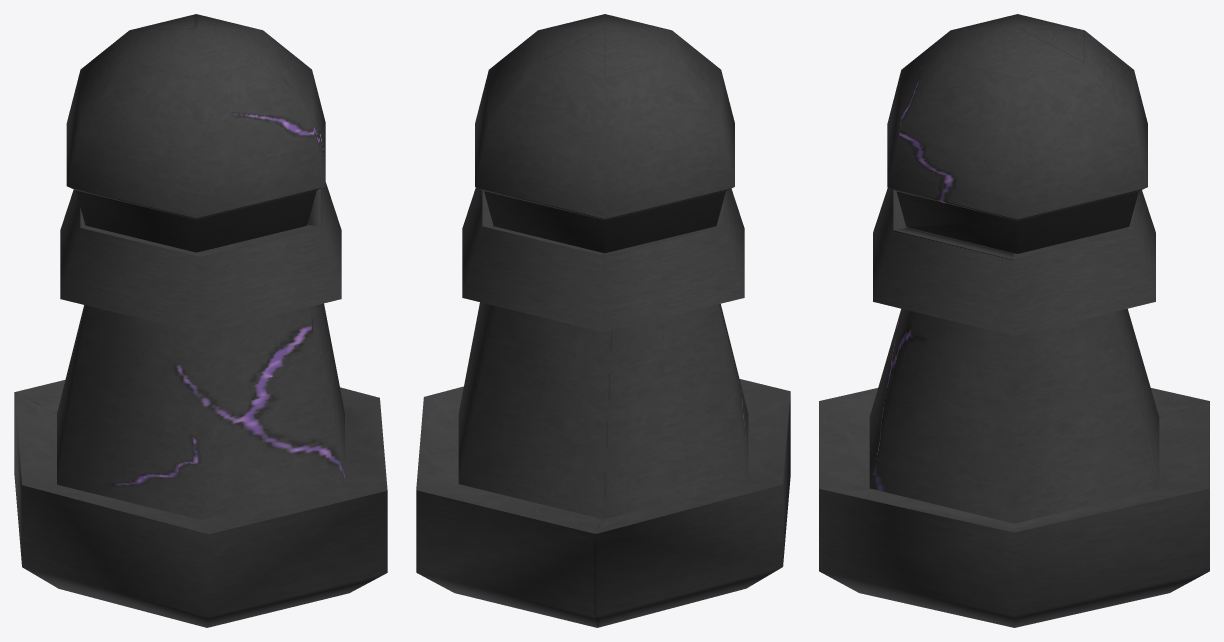
File: ModelBlack.fbx
3 renders of one model, left to right at view 1: azimuth 30°, elevation 25°; view 2: azimuth 150°, elevation 25°; view 3: azimuth 270°, elevation 25°, orthographic.
Visible parts, largest first — view 1: Pawn_Union; view 2: Pawn_Union; view 3: Pawn_Union.
Part boxes in pixels (bbox=[...]): Pawn_Union: bbox=[14, 14, 387, 627]; Pawn_Union: bbox=[416, 14, 790, 627]; Pawn_Union: bbox=[819, 14, 1209, 627].
Size of the model in its own units: 2.86 by 4.01 by 2.69.
